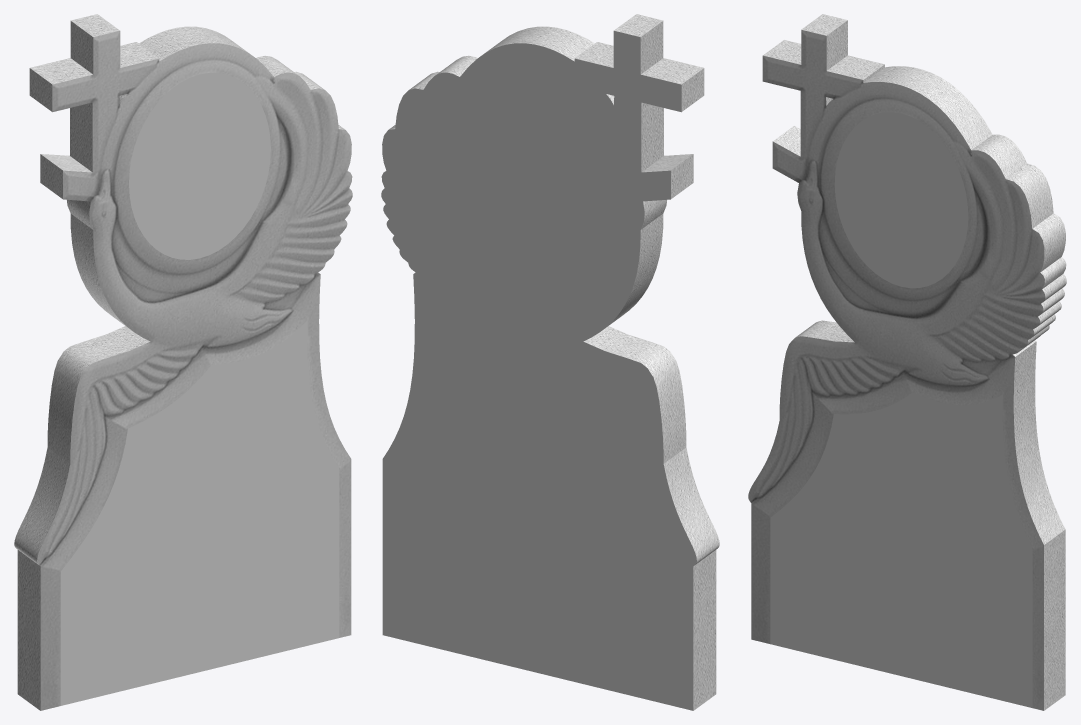
File: cn43a83f8c1b_tkf.glb
3 views of the same model, side by side, from view 1: azimuth 30°, elevation 25°; view 2: azimuth 150°, elevation 25°; view 3: azimuth 330°, elevation 25° (orthographic). The views are drawn at different scales.
Parts seen in each view (by area): view 1: Pam-d01-115_2_notexture, Pam-d01-115; view 2: Pam-d01-115, Pam-d01-115_2_notexture; view 3: Pam-d01-115_2_notexture, Pam-d01-115.
Part boxes in pixels (x1,y1,x2,y2): Pam-d01-115_2_notexture: (14,14,352,710); Pam-d01-115: (60,73,339,705); Pam-d01-115: (381,31,696,710); Pam-d01-115_2_notexture: (385,14,719,710); Pam-d01-115_2_notexture: (748,14,1066,710); Pam-d01-115: (770,112,1032,707).
Size of the model in its own units: 0.4 by 0.8 by 0.05.
Materials: 1 (1 with a texture image).
